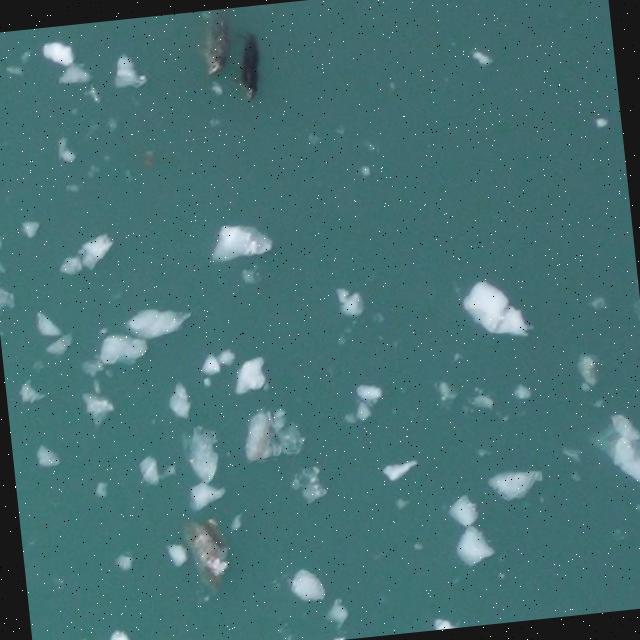seal: (197, 8, 233, 75), (238, 32, 264, 103)
